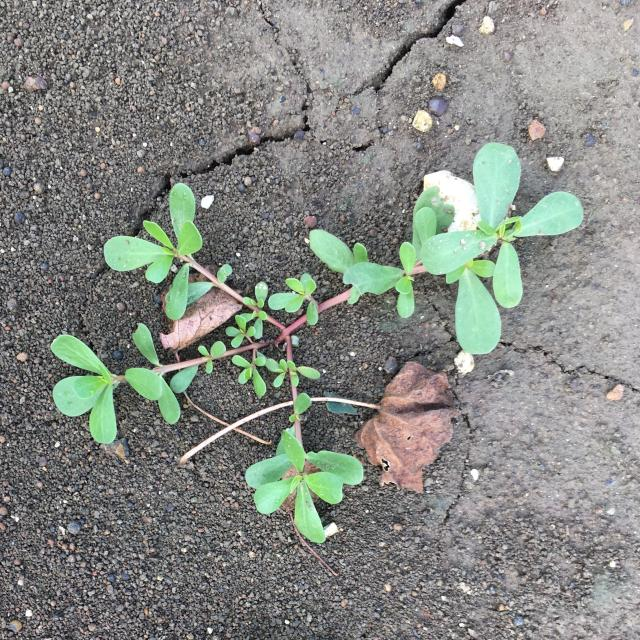Purslane: (50, 143, 585, 544)
